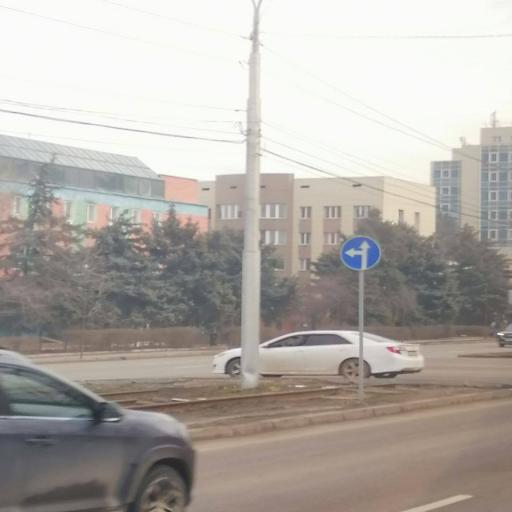bottle: (0, 350, 195, 512), (259, 331, 359, 379), (362, 333, 424, 378), (212, 348, 242, 377)
construction_fence: (189, 379, 511, 442)
phone: (241, 0, 262, 389)
ramp: (186, 395, 511, 512)
